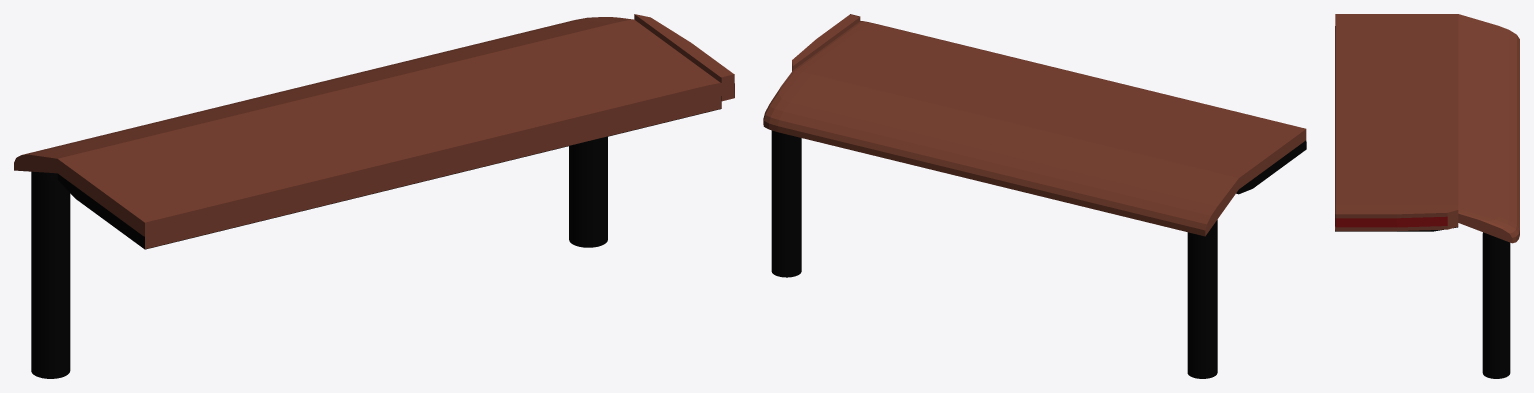
Rendered from LibTable_Right.fbx.
3 renders of one model, left to right at view 1: azimuth 30°, elevation 25°; view 2: azimuth 150°, elevation 25°; view 3: azimuth 270°, elevation 25°, orthographic. The views are drawn at different scales.
Visible parts, largest first — view 1: LibTable_Right; view 2: LibTable_Right; view 3: LibTable_Right.
Part boxes in pixels (x1,y1,x2,y2): LibTable_Right: (14, 14, 734, 378); LibTable_Right: (763, 14, 1306, 378); LibTable_Right: (1335, 14, 1519, 378).
Bounding box in the file's own units: 522 × 204 × 201.
